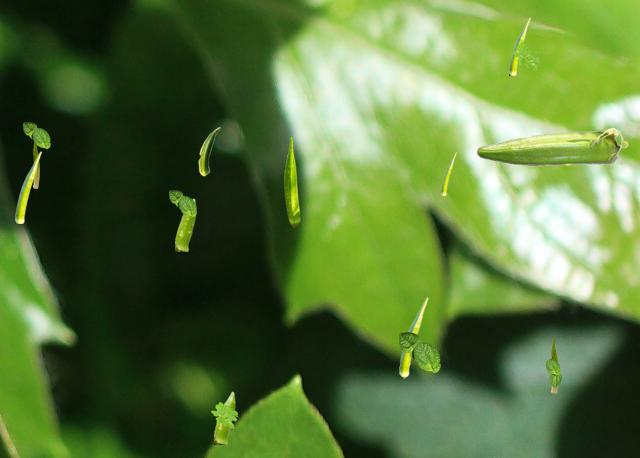okra: (476, 127, 627, 165), (399, 297, 427, 377), (15, 151, 40, 222), (284, 137, 299, 226), (509, 17, 529, 74), (175, 198, 195, 250), (214, 391, 234, 443), (198, 127, 219, 175), (441, 152, 455, 195), (551, 335, 557, 392), (33, 143, 38, 187)
